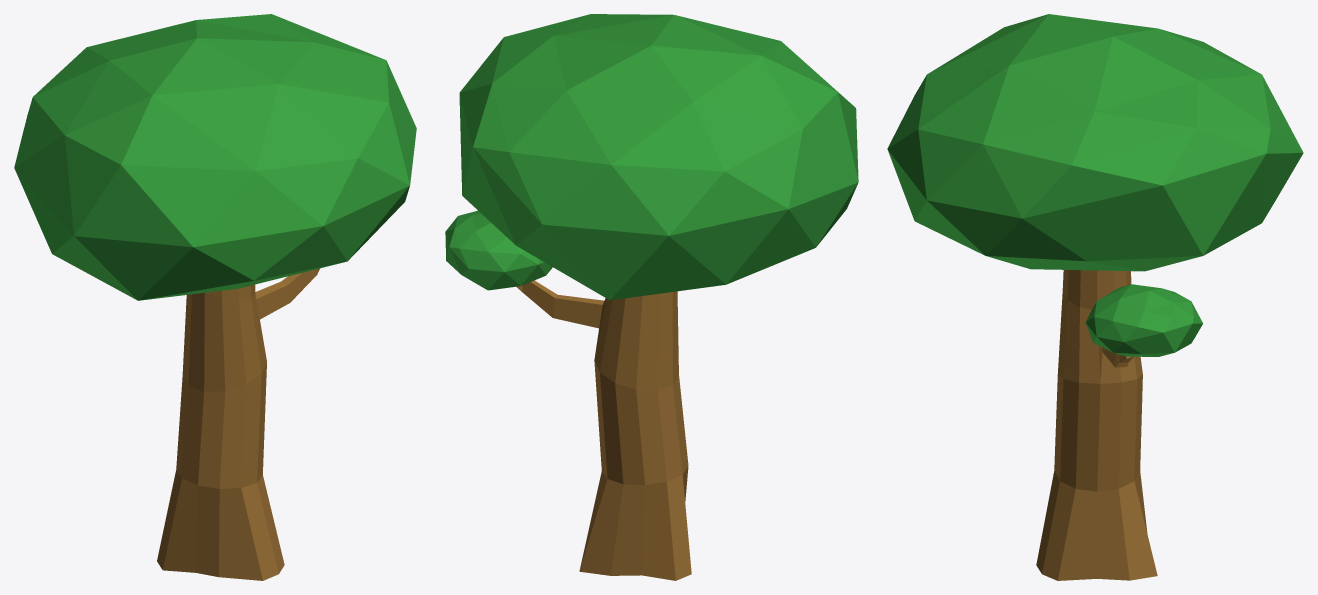
The model's file is Tree_01.fbx.
The picture shows the model from 3 angles, left to right: view 1: azimuth 30°, elevation 25°; view 2: azimuth 150°, elevation 25°; view 3: azimuth 270°, elevation 25°; orthographic projection.
Visible parts, largest first — view 1: Tree01; view 2: Tree01; view 3: Tree01.
Boxes of the visible parts, x1,y1,x2,y2 form: Tree01: [14, 14, 416, 580]; Tree01: [445, 14, 858, 580]; Tree01: [887, 14, 1303, 580].
Size of the model in its own units: 860 by 1232 by 901.
